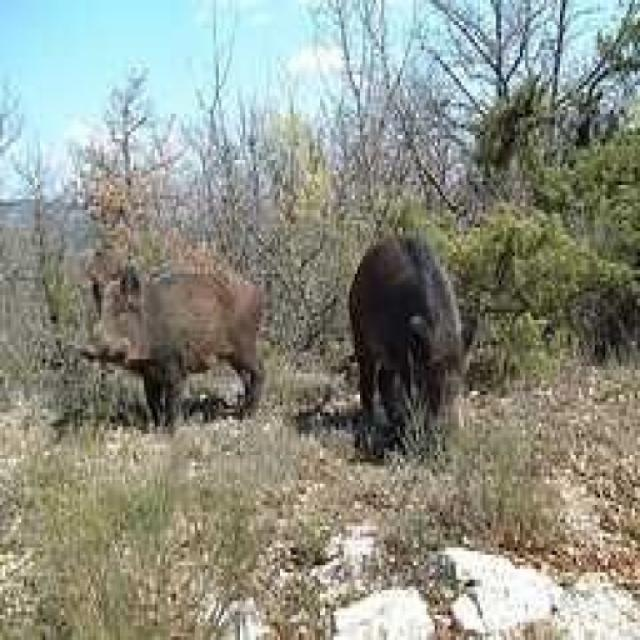pig: (323, 202, 528, 499), (27, 234, 303, 431)
